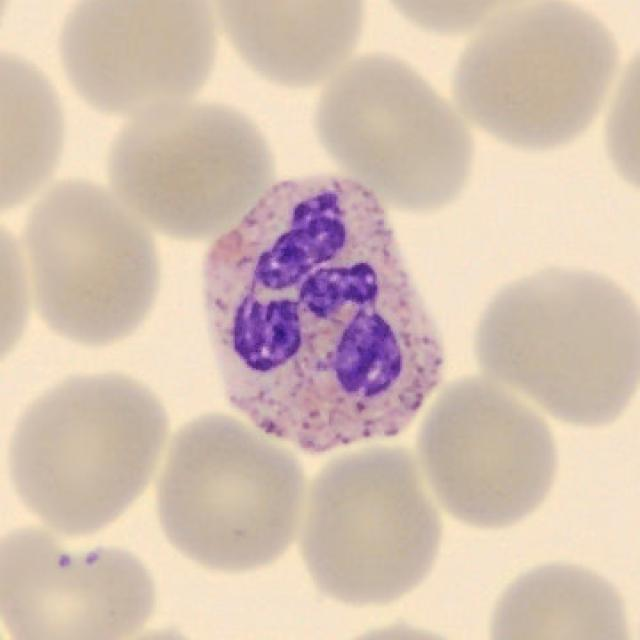Neutrofilo segmentado: (203, 174, 446, 455)
